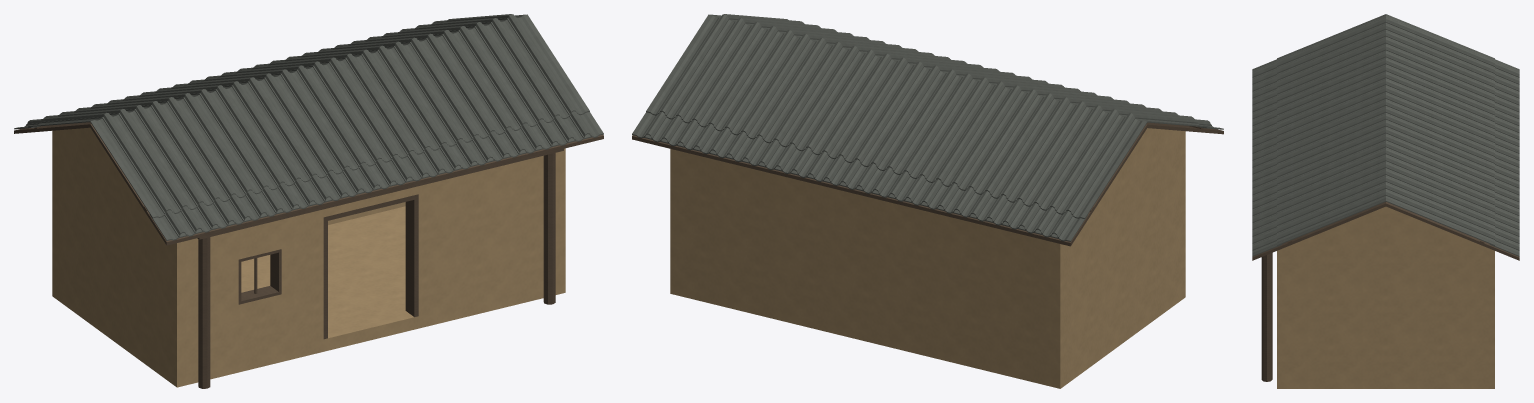
3 renders of one model, left to right at view 1: azimuth 30°, elevation 25°; view 2: azimuth 150°, elevation 25°; view 3: azimuth 270°, elevation 25°, orthographic. The views are drawn at different scales.
Visible parts, largest first — view 1: H72_v1_1__LY_P01_earth, H72_v1_1__LY_P01_tile, H72_v1_1__LY_P01_timber; view 2: H72_v1_1__LY_P01_earth, H72_v1_1__LY_P01_tile, H72_v1_1__LY_P01_timber; view 3: H72_v1_1__LY_P01_tile, H72_v1_1__LY_P01_earth, H72_v1_1__LY_P01_timber.
Boxes of the visible parts, x1,y1,x2,y2 form: H72_v1_1__LY_P01_earth: (52, 127, 565, 387); H72_v1_1__LY_P01_tile: (14, 14, 603, 240); H72_v1_1__LY_P01_timber: (14, 122, 603, 388); H72_v1_1__LY_P01_earth: (670, 128, 1185, 388); H72_v1_1__LY_P01_tile: (632, 14, 1223, 241); H72_v1_1__LY_P01_timber: (632, 122, 1223, 246); H72_v1_1__LY_P01_tile: (1252, 14, 1519, 256); H72_v1_1__LY_P01_earth: (1277, 206, 1494, 388); H72_v1_1__LY_P01_timber: (1252, 202, 1519, 381).
Size of the model in its own units: 8.1 by 4.09 by 4.9.
3 materials, 3 textured.
